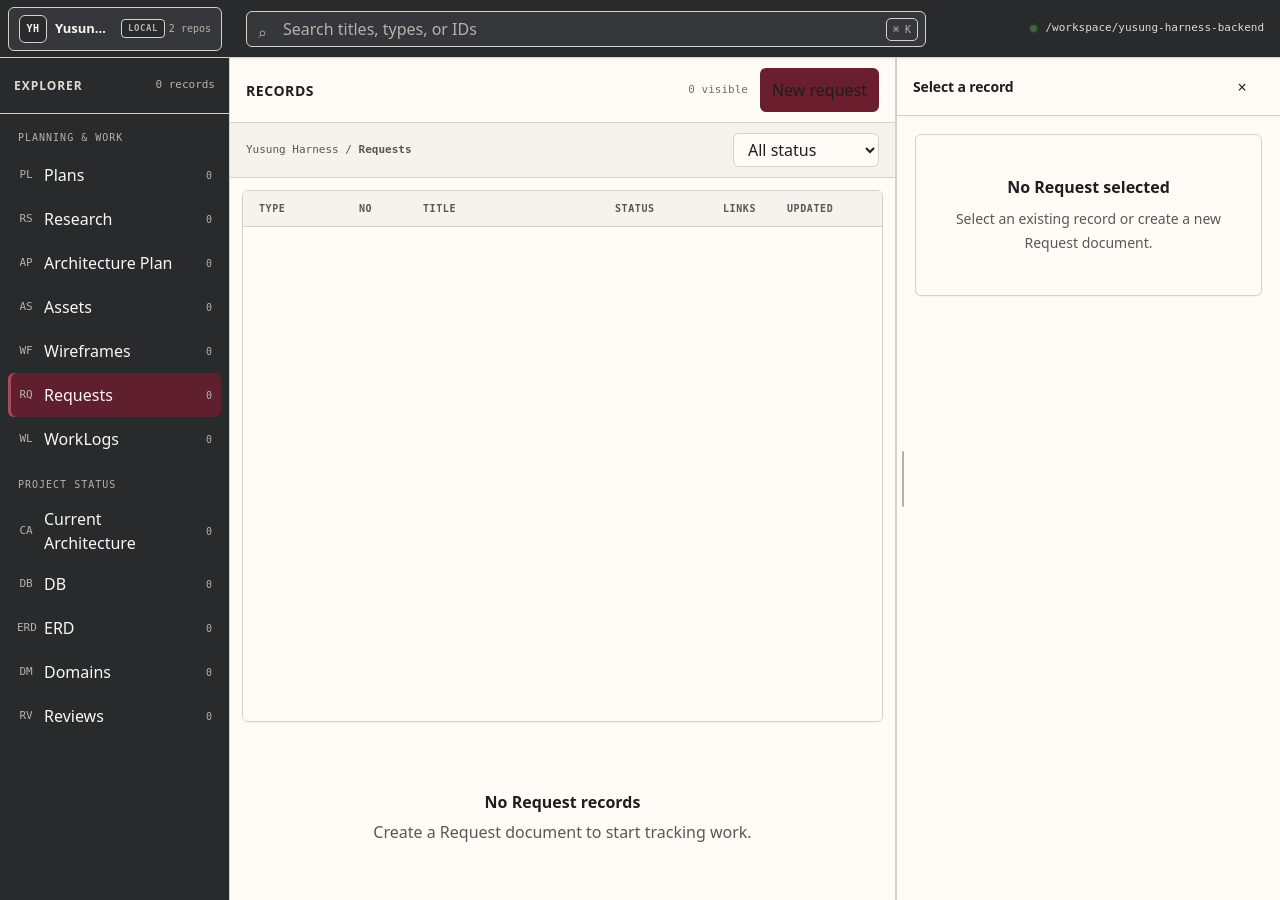
Test: Request central document mutations › 생성 실패 시 입력을 보존하고 오류를 알리며 record를 추가하지 않는다
Step 1. Click the button "New request" → (819, 90), box [760, 68, 879, 112]
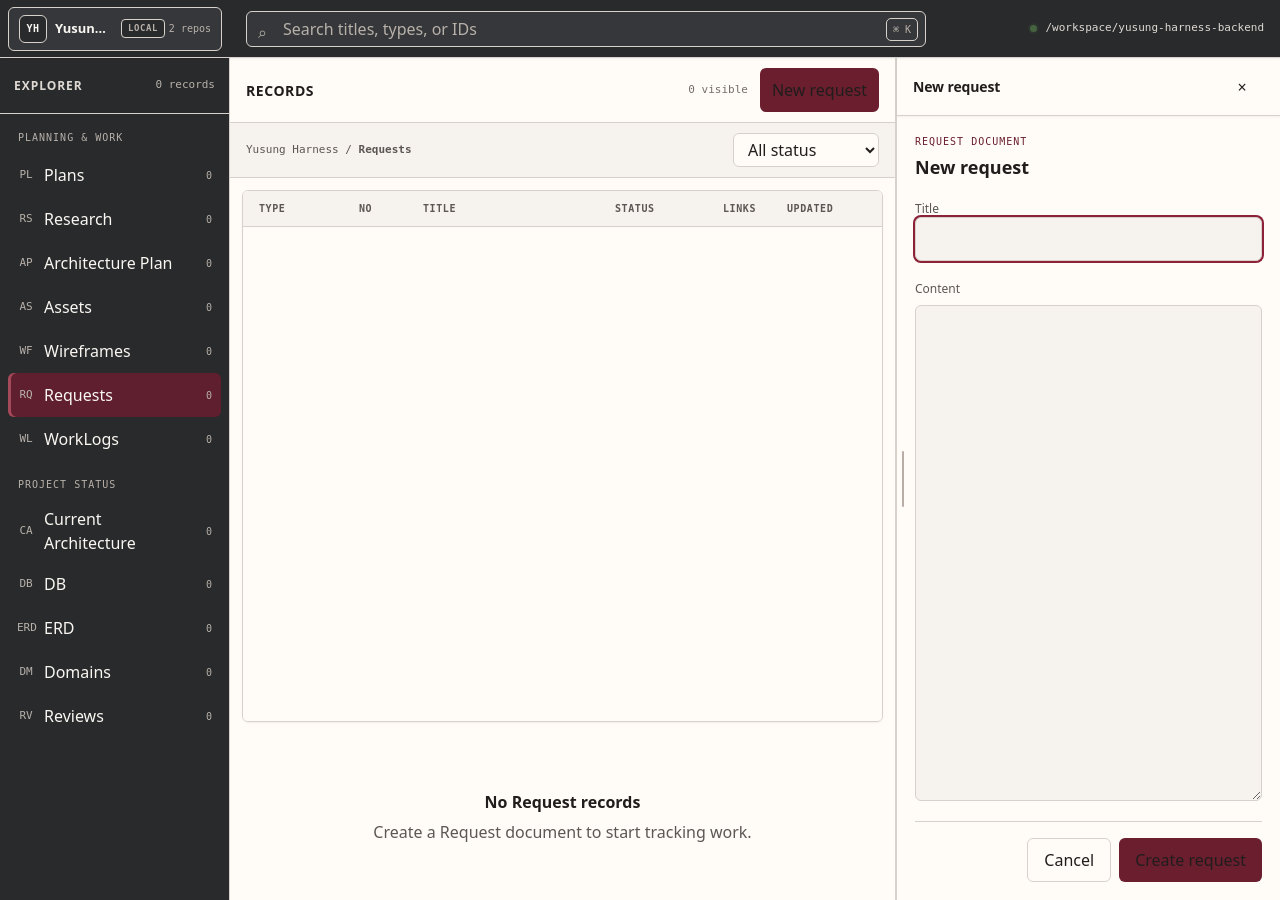
Step 2. Type "Unsaved request" into the field labelled "Title" → (1088, 239), box [915, 217, 1262, 261]
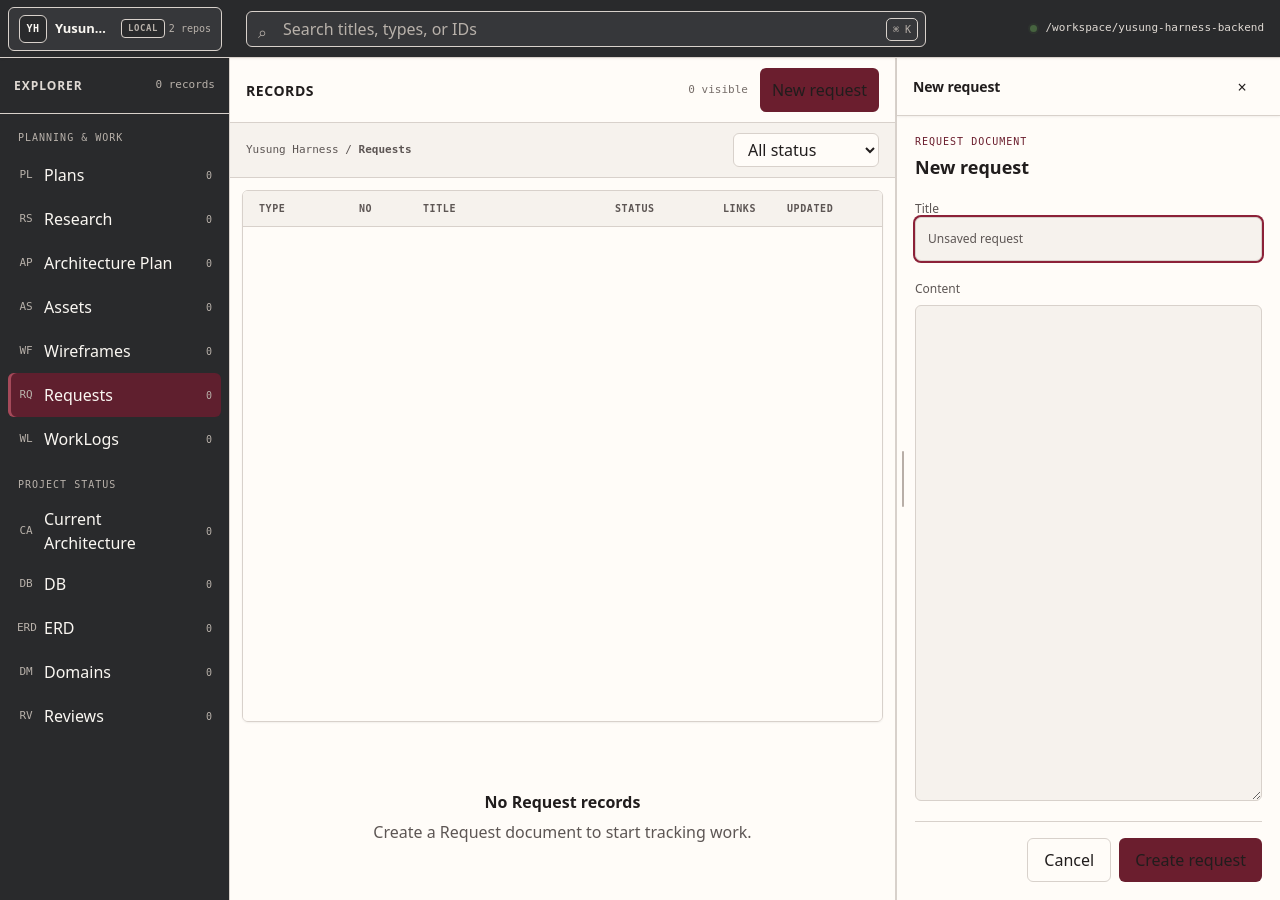
Step 3. Type "Keep this draft." into the text box labelled "Content" → (1088, 553), box [915, 305, 1262, 801]
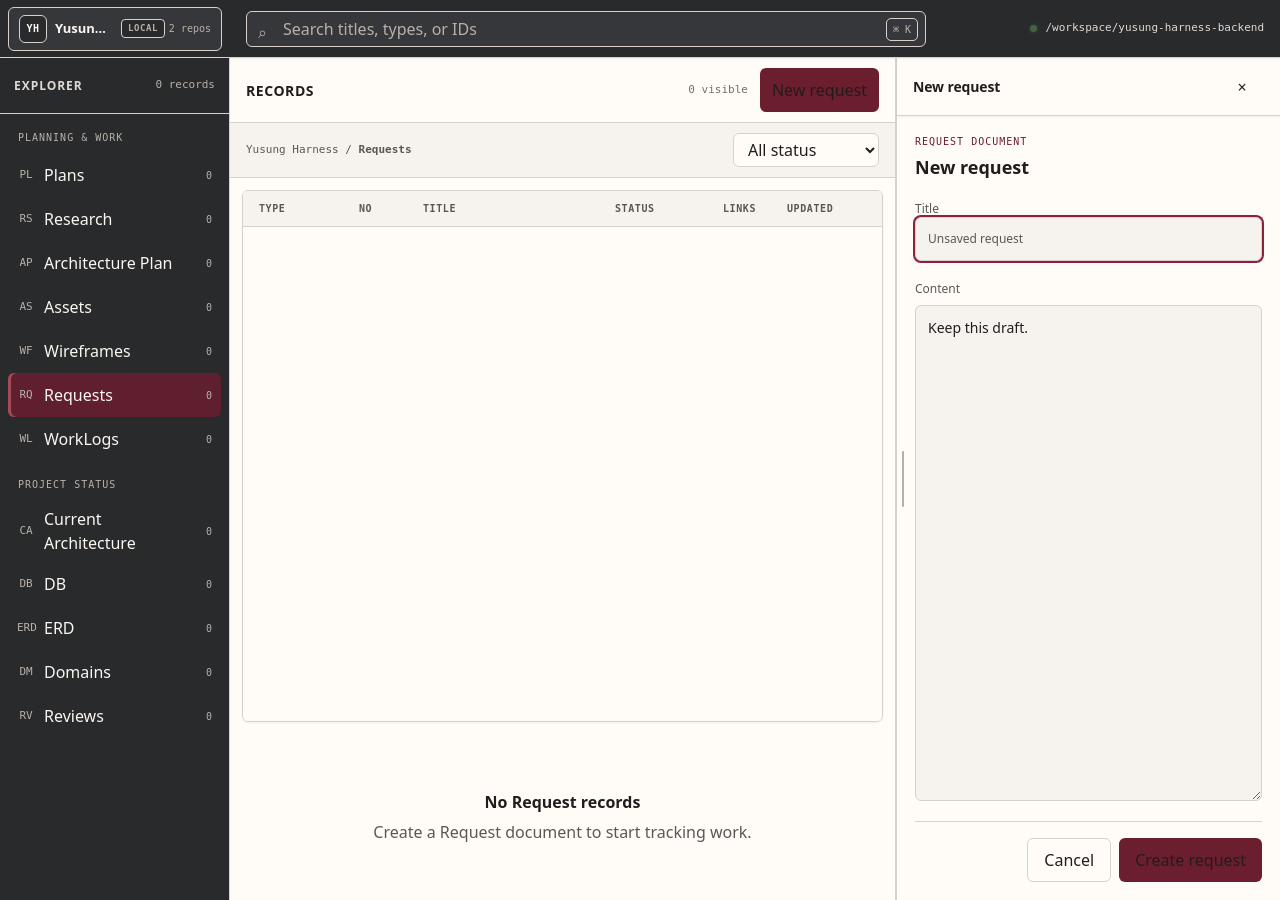
Step 4. Click the button "Create request" → (1191, 860), box [1119, 838, 1262, 882]
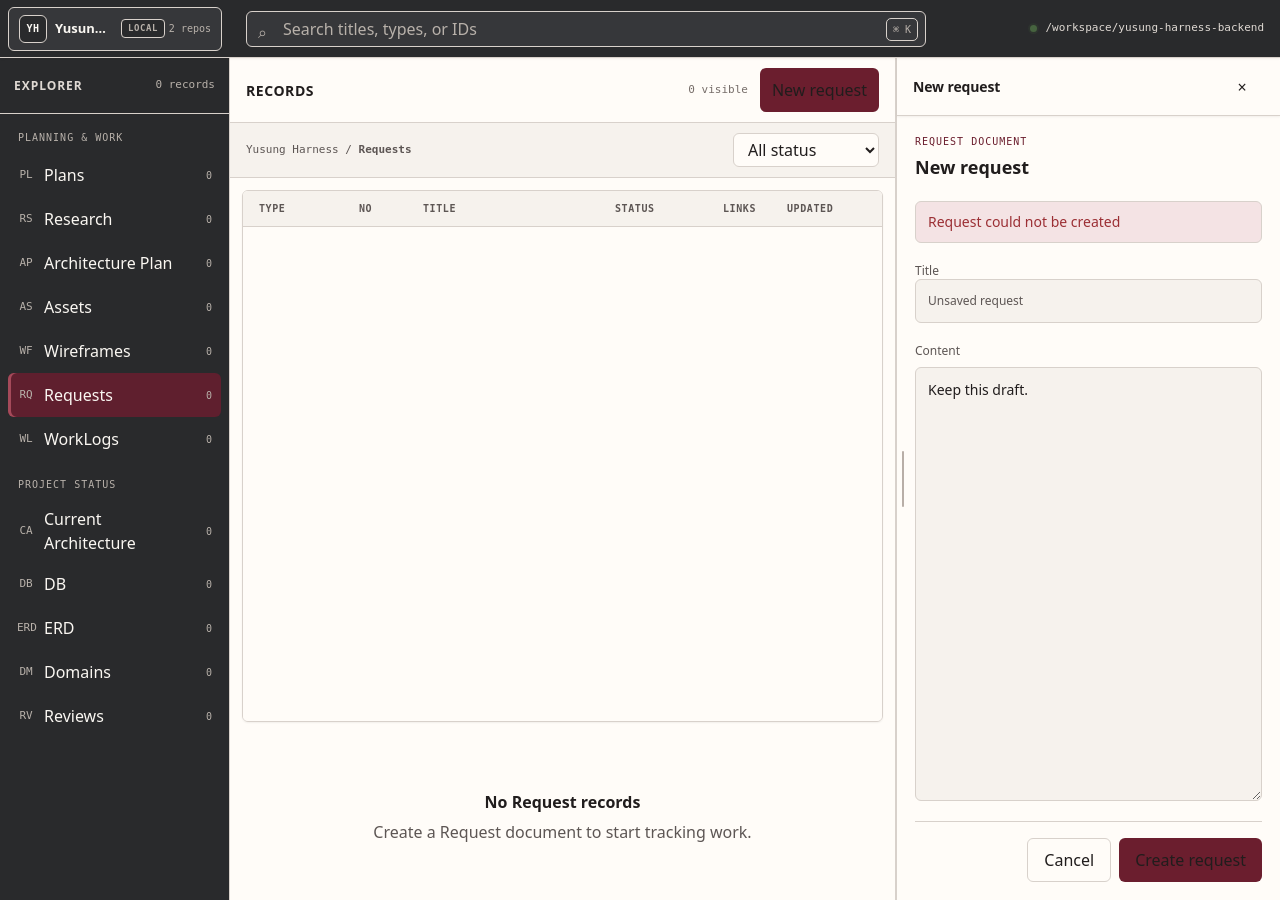
Check: the message reads "Request could not be created", box [928, 212, 1120, 231]
